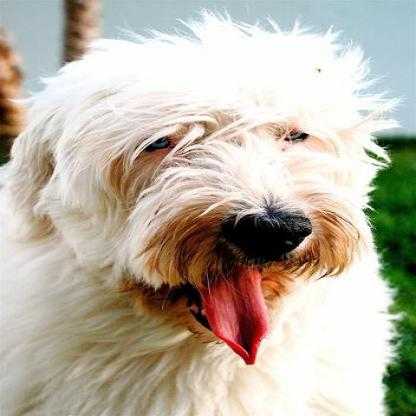Old_English_sheepdog: (0, 16, 398, 413)
